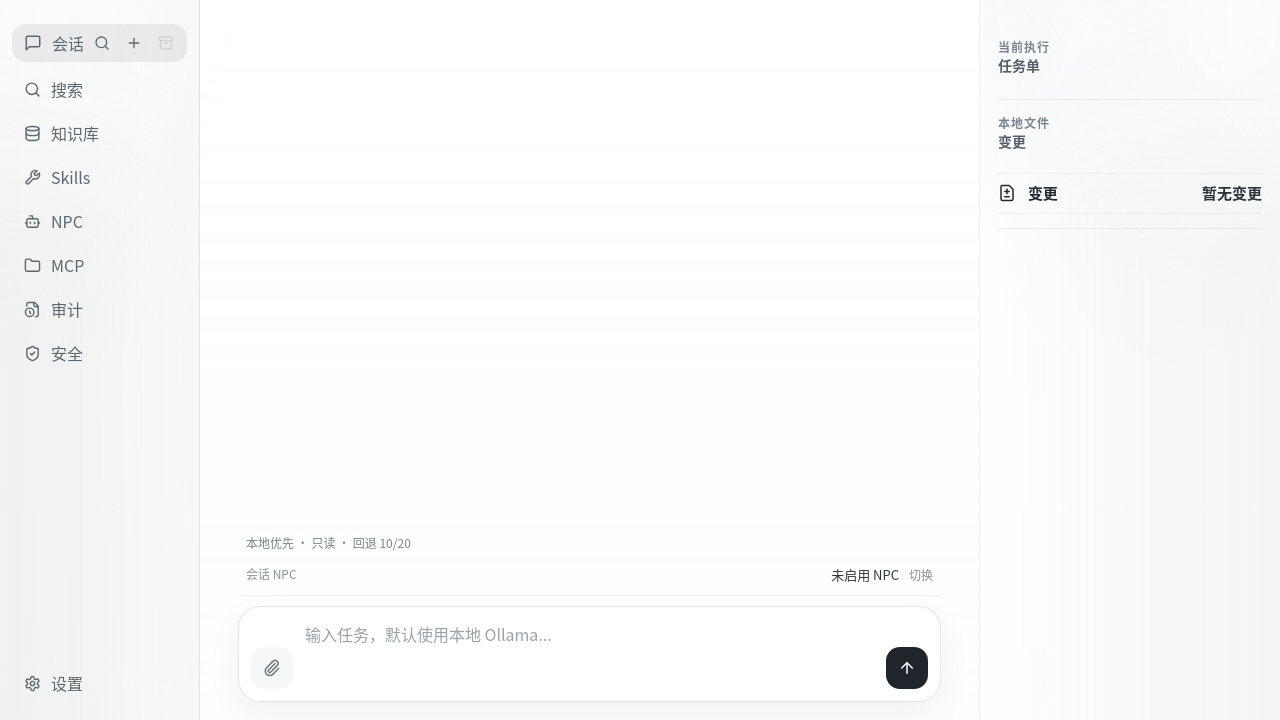
Test case: Workbench › renders the single NPC workspace with compact cards and lightweight navigation
What coordinates should you click on to do the following:
click the button "NPC"
I would click on:
 (100, 221)
Its box is [12,202,187,240].
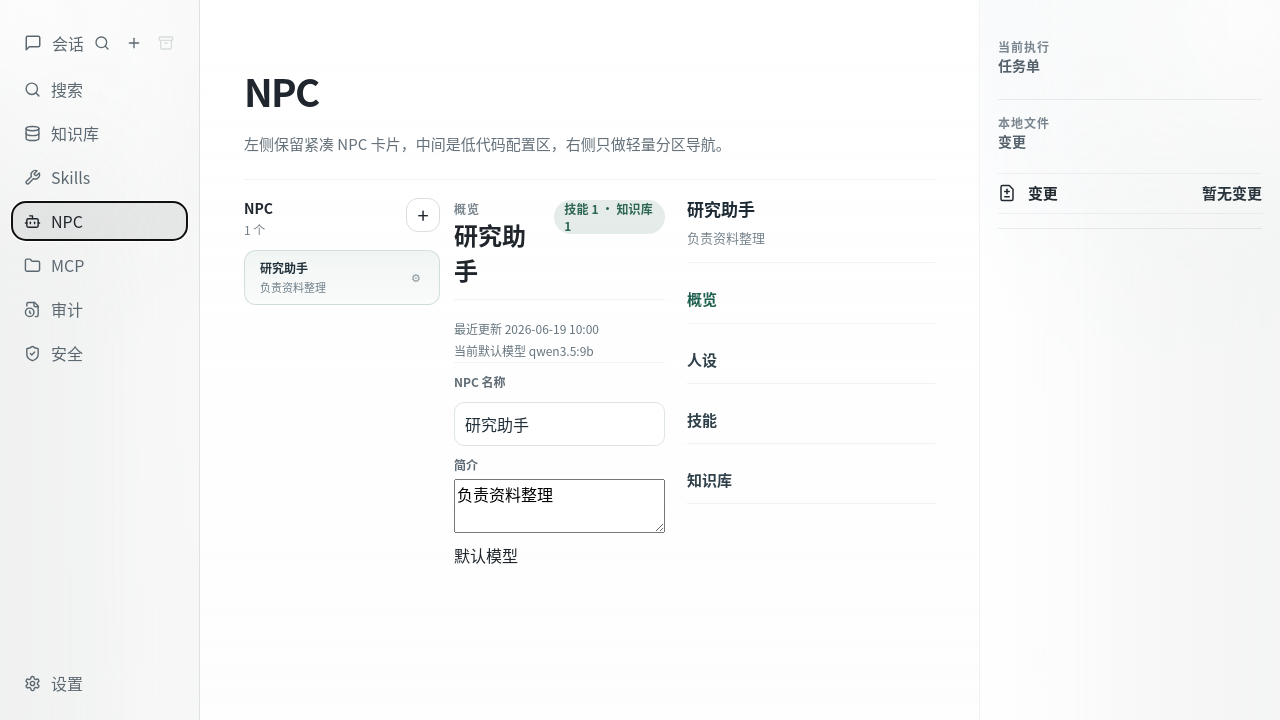
expect the button "研究助手 负责资料整理" is shown: met, box [254,258,396,297]
expect the button "概览" is shown: met, box [687,275,935,324]
expect the button "人设" is shown: met, box [687,336,935,384]
